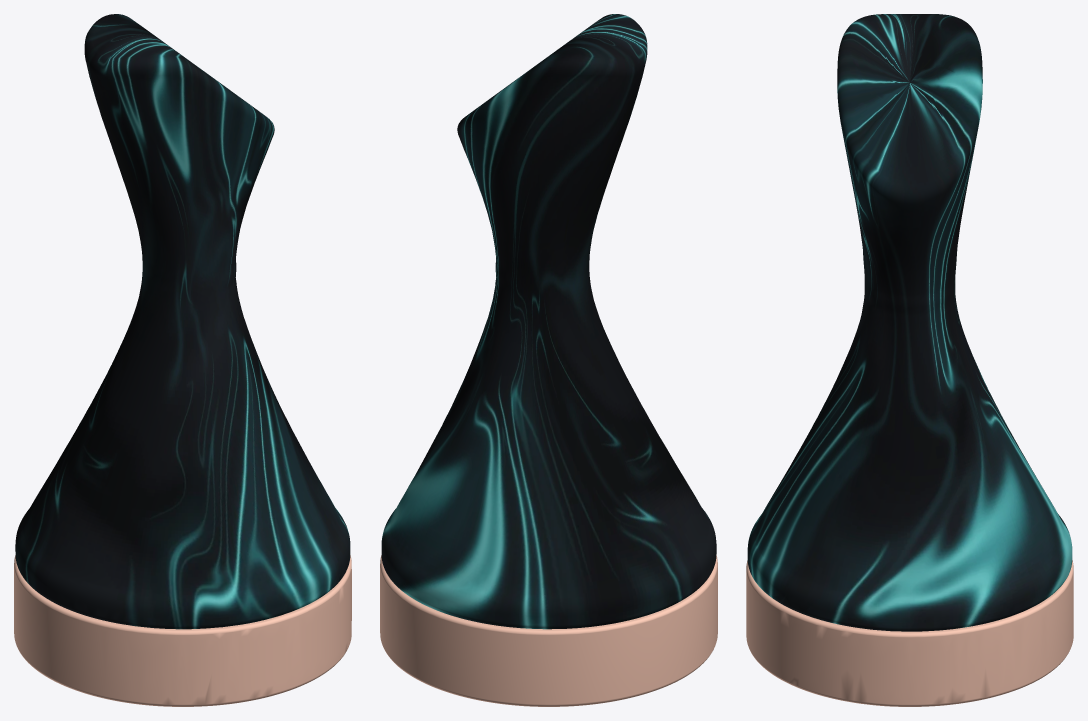
File: knight-black-hd.glb
3 renders of one model, left to right at view 1: azimuth 30°, elevation 25°; view 2: azimuth 150°, elevation 25°; view 3: azimuth 270°, elevation 25°, orthographic. The views are drawn at different scales.
Visible parts, largest first — view 1: jezdec_cerna; view 2: jezdec_cerna; view 3: jezdec_cerna.
Part boxes in pixels (<box>): jezdec_cerna: <box>14,14,351,706</box>; jezdec_cerna: <box>380,14,717,706</box>; jezdec_cerna: <box>746,14,1073,706</box>.
Bounding box in the file's own units: 0.6741 × 1.35 × 0.6741.
Materials: 2 (1 with a texture image).
